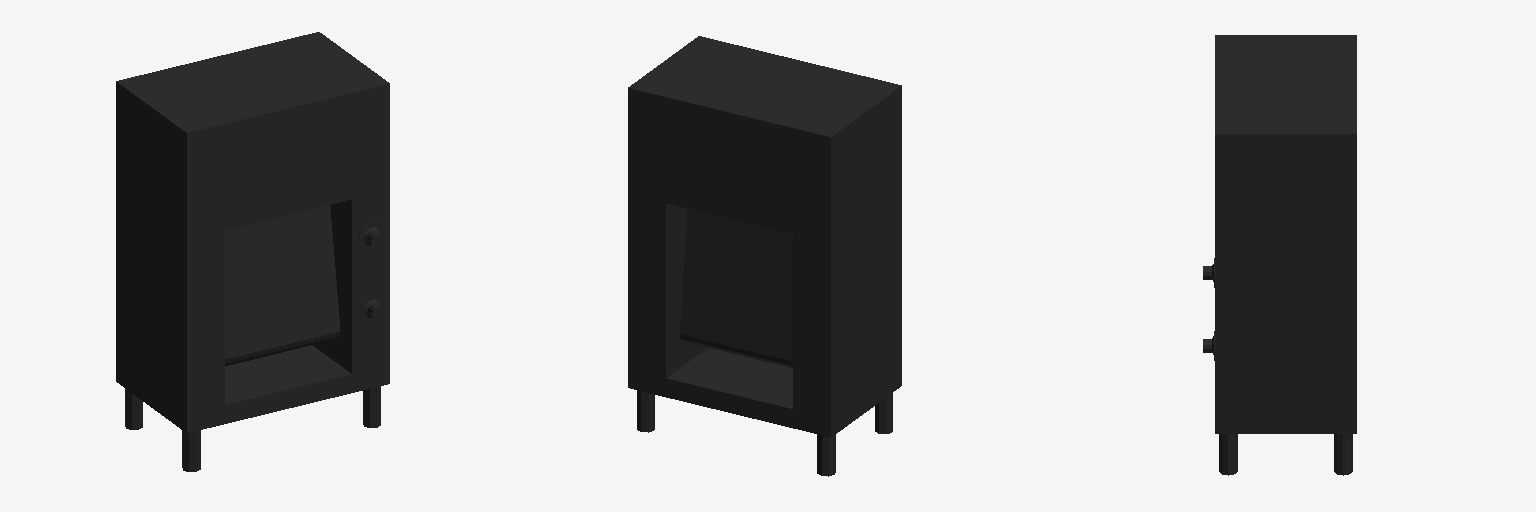
Rendered from Toaster_Galley.obj.
3 renders of one model, left to right at view 1: azimuth 30°, elevation 25°; view 2: azimuth 150°, elevation 25°; view 3: azimuth 270°, elevation 25°, orthographic.
Parts seen in each view (by area): view 1: Toaster_Galley.obj; view 2: Toaster_Galley.obj; view 3: Toaster_Galley.obj.
Part boxes in pixels (x1,y1,x2,y2): Toaster_Galley.obj: (116, 32, 389, 471); Toaster_Galley.obj: (628, 36, 901, 476); Toaster_Galley.obj: (1203, 35, 1356, 475).
Size of the model in its own units: 4.94 by 7.96 by 3.23.